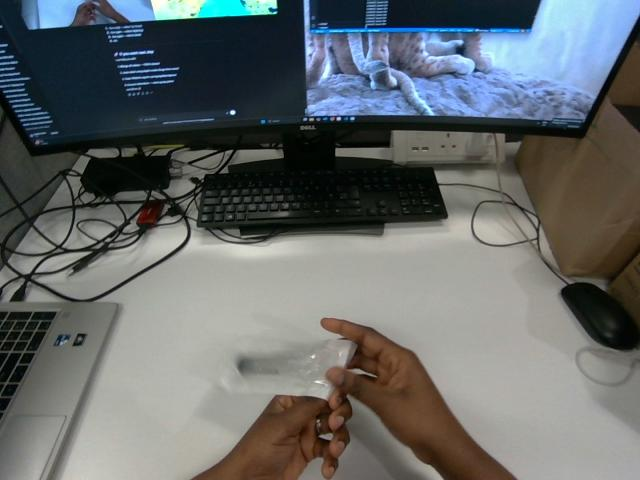syringe: (220, 339, 355, 399)
